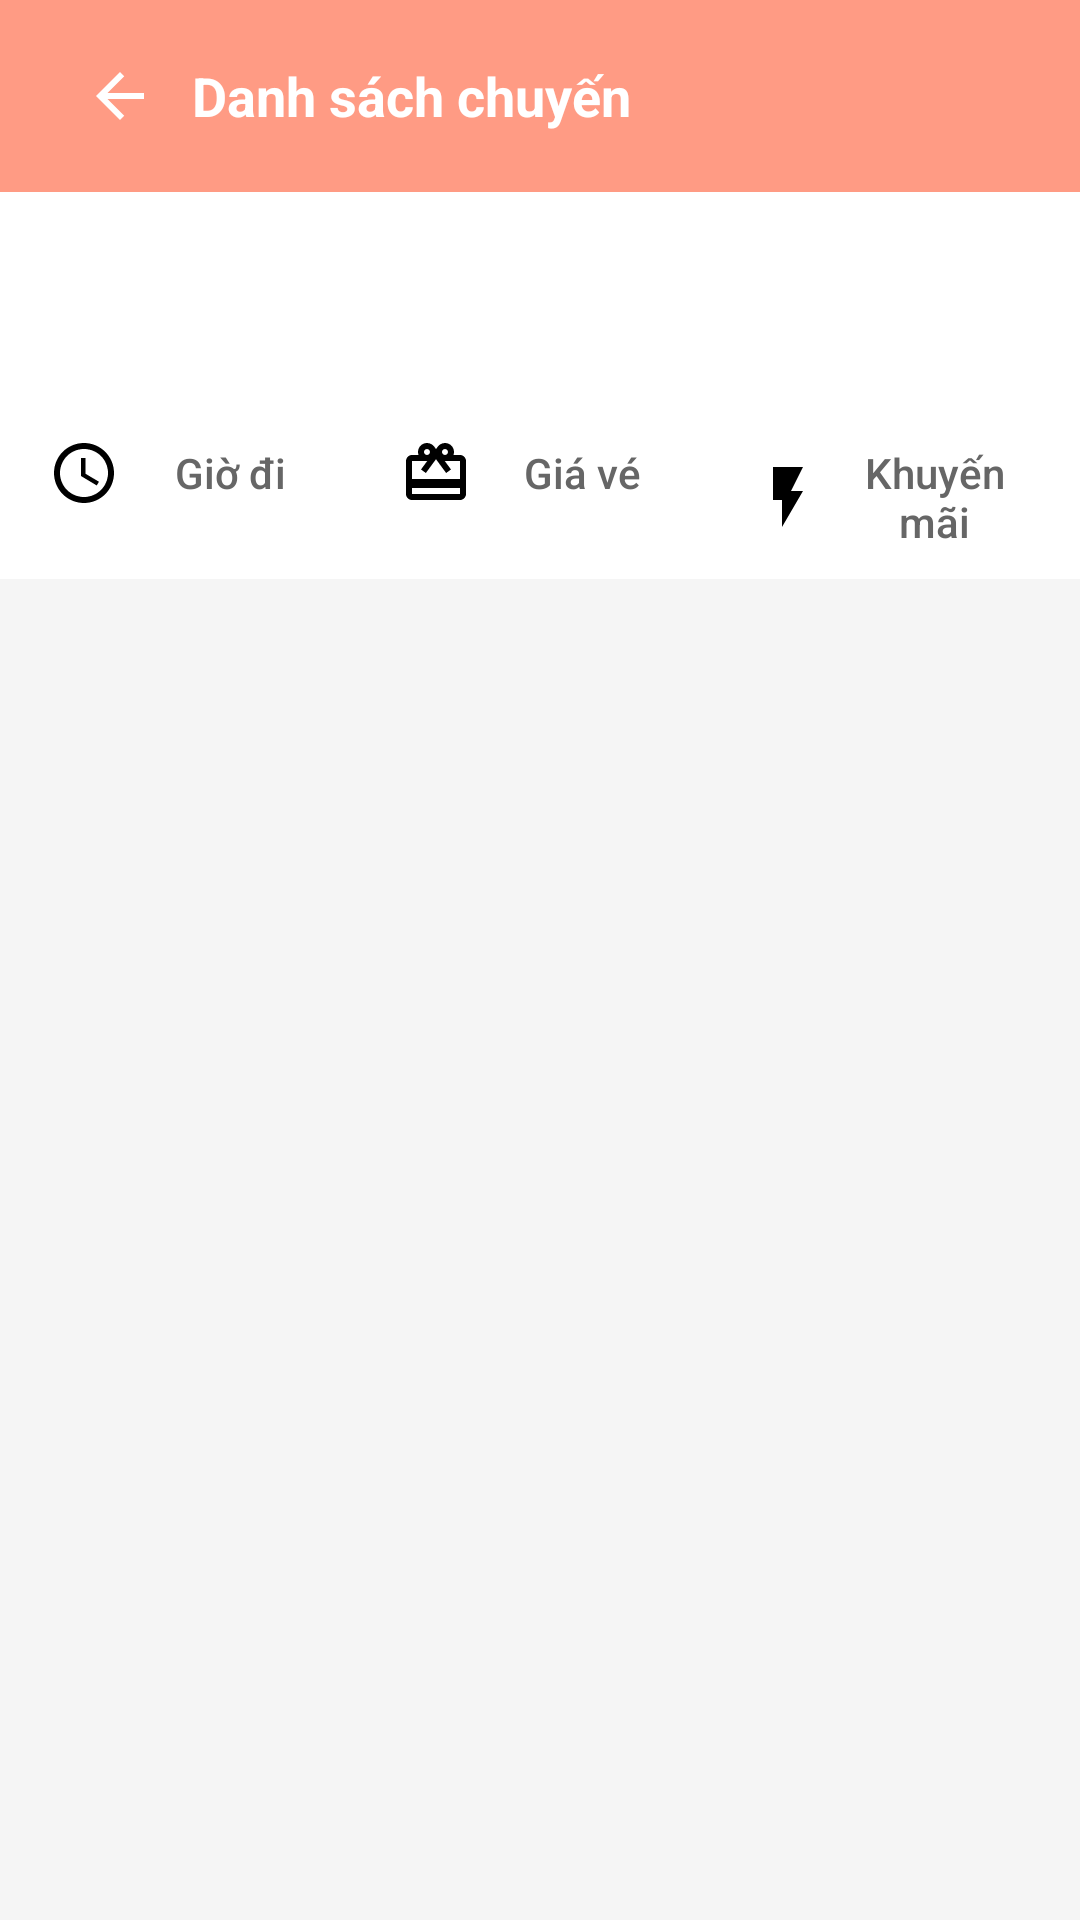

Locate icon controls on the screen. Image size 1080px×1920px, boxes as (left=x1, top=y1, right=x2, bottom=y2).
arrow back: (left=96, top=72, right=144, bottom=120)
